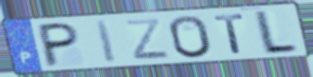I: (94, 19, 119, 65)
L: (254, 9, 300, 56)
O: (167, 14, 215, 59)
P: (38, 21, 81, 69)
T: (211, 12, 247, 55)
Z: (122, 17, 173, 61)
